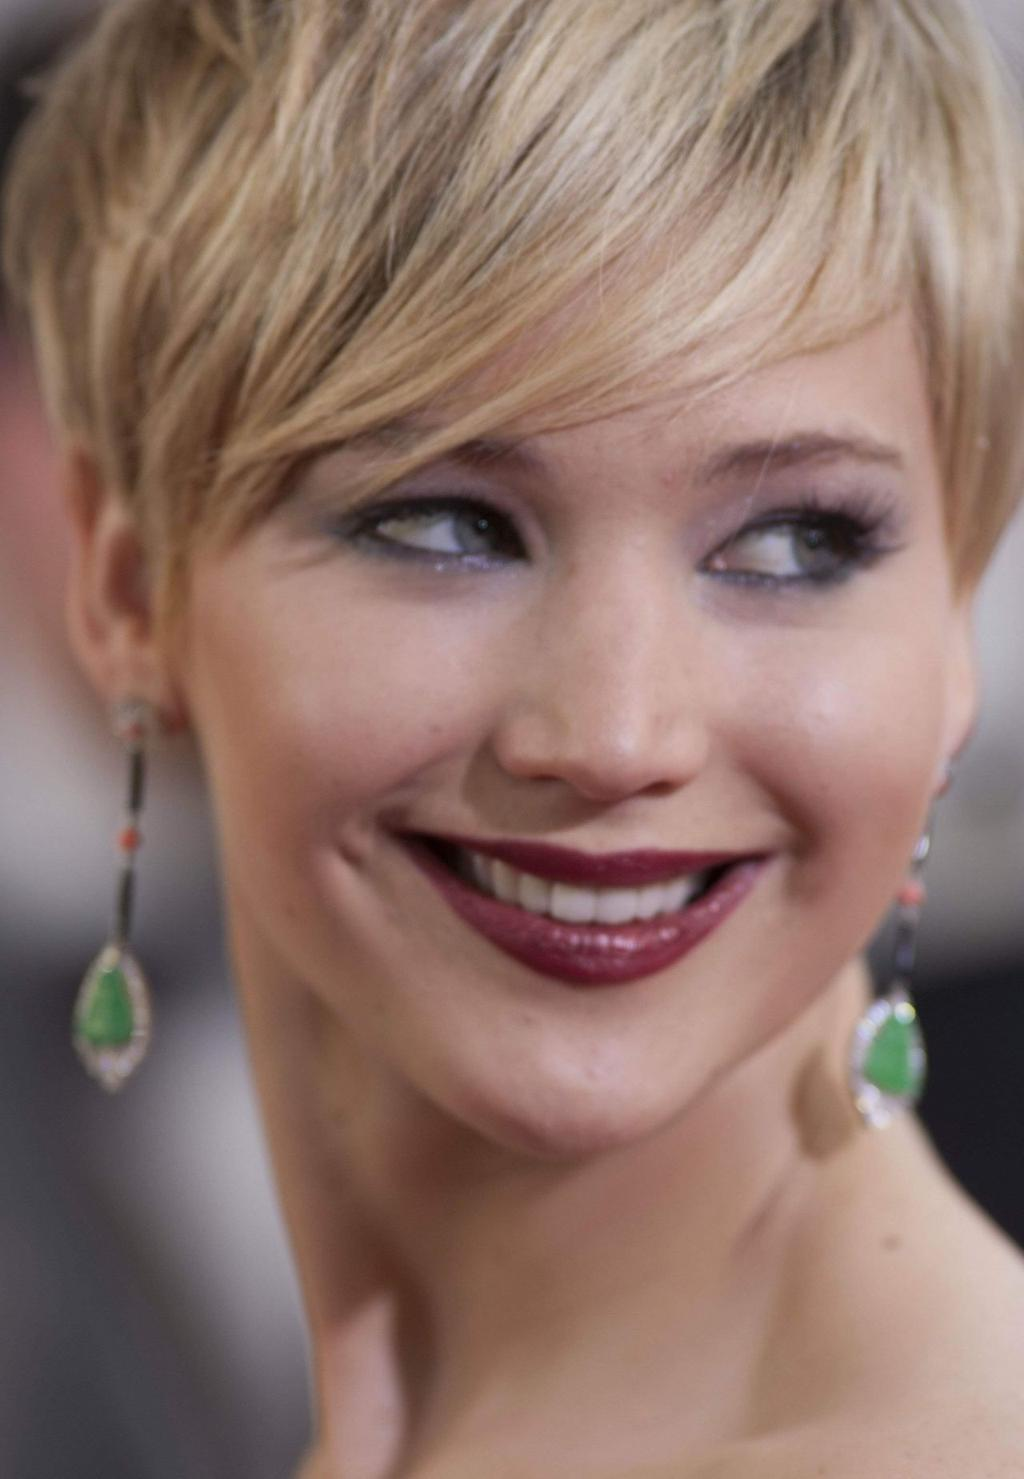face: (185, 66, 964, 1142)
